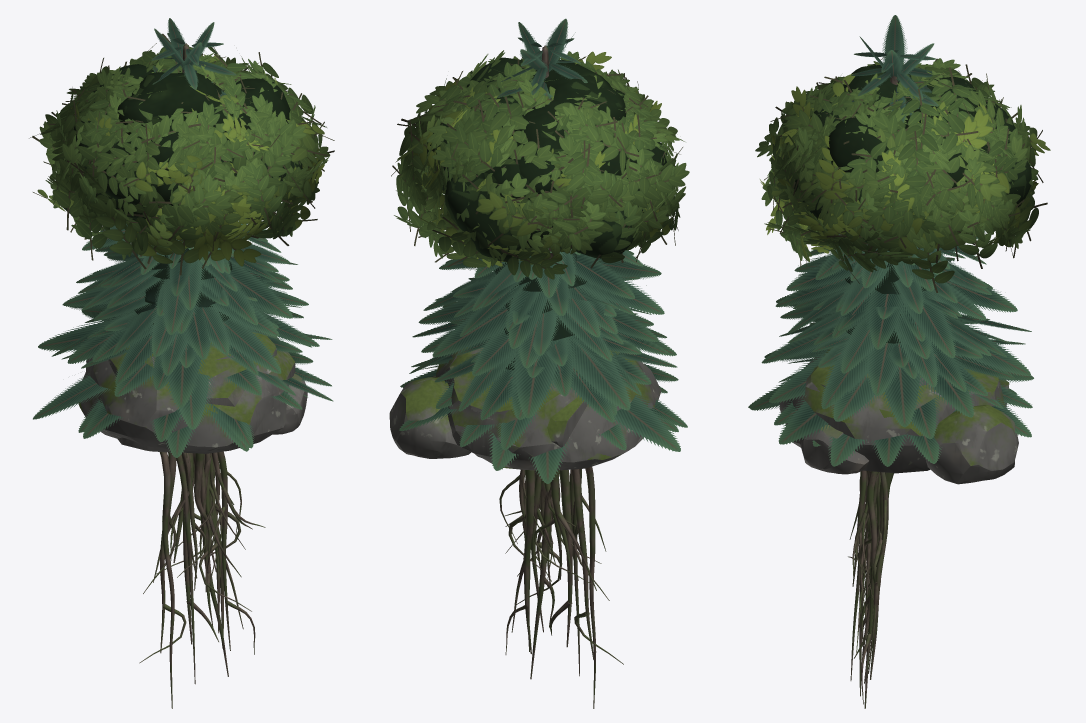
The model's file is Nature.gltf.
The picture shows the model from 3 angles, left to right: view 1: azimuth 30°, elevation 25°; view 2: azimuth 150°, elevation 25°; view 3: azimuth 270°, elevation 25°; orthographic projection. The views are drawn at different scales.
Parts seen in each view (by area): view 1: Oak_A, Pine_A, Oak_B, Pine_B, MossBoulder_A, Roots_C, Roots_A, MossBoulder_B, Roots_B, Boulder_B; view 2: Oak_A, Pine_A, Oak_B, Pine_B, MossBoulder_A, Roots_C, MossBoulder_B, Roots_A, Roots_B; view 3: Pine_A, Oak_A, Oak_B, Pine_B, MossBoulder_A, MossBoulder_B, Roots_A, Roots_C, Boulder_B, Roots_B.
Part boxes in pixels (x1,y1,x2,y2): Oak_A: [29, 46, 334, 275]; Pine_A: [33, 18, 333, 457]; Oak_B: [43, 33, 314, 252]; Pine_B: [61, 65, 313, 451]; MossBoulder_A: [78, 336, 295, 453]; Roots_C: [159, 452, 251, 708]; Roots_A: [139, 451, 255, 663]; MossBoulder_B: [86, 332, 276, 452]; Roots_B: [156, 452, 265, 592]; Boulder_B: [273, 373, 307, 434]; Oak_A: [392, 57, 689, 279]; Pine_A: [399, 18, 687, 483]; Oak_B: [391, 50, 682, 254]; Pine_B: [421, 92, 678, 450]; MossBoulder_A: [436, 347, 661, 470]; Roots_C: [499, 466, 596, 708]; MossBoulder_B: [389, 346, 617, 458]; Roots_A: [505, 469, 623, 664]; Roots_B: [505, 470, 591, 593]; Pine_A: [750, 15, 1031, 466]; Oak_A: [755, 61, 1050, 292]; Oak_B: [766, 57, 1028, 263]; Pine_B: [748, 76, 1033, 466]; MossBoulder_A: [779, 347, 1009, 473]; MossBoulder_B: [804, 356, 1018, 484]; Roots_A: [848, 470, 893, 704]; Roots_C: [850, 471, 887, 708]; Boulder_B: [800, 424, 869, 474]; Roots_B: [852, 471, 876, 607].
Size of the model in its own units: 3.1 by 6.57 by 2.92.
16 materials, 16 textured.
